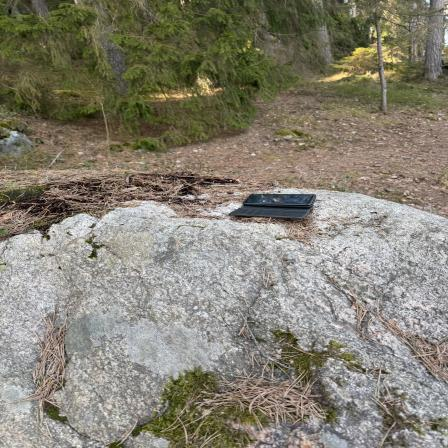phone: (232, 192, 314, 220)
